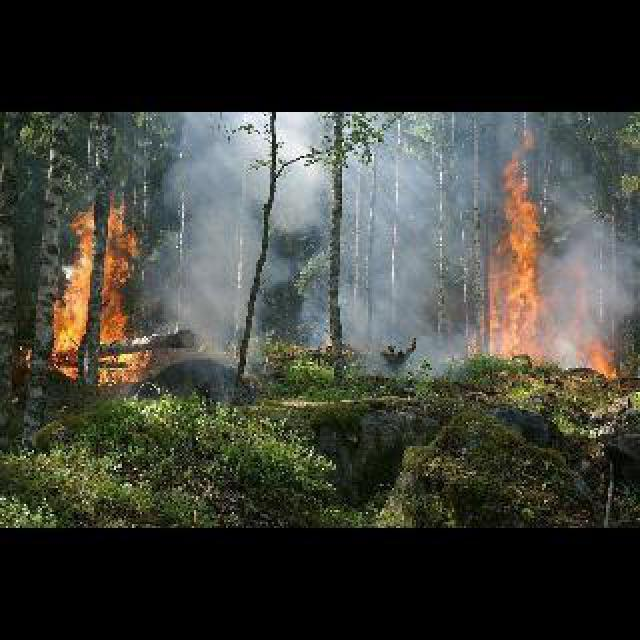Fire: (458, 120, 626, 382), (14, 180, 154, 394)
Smoke: (540, 152, 638, 342)
